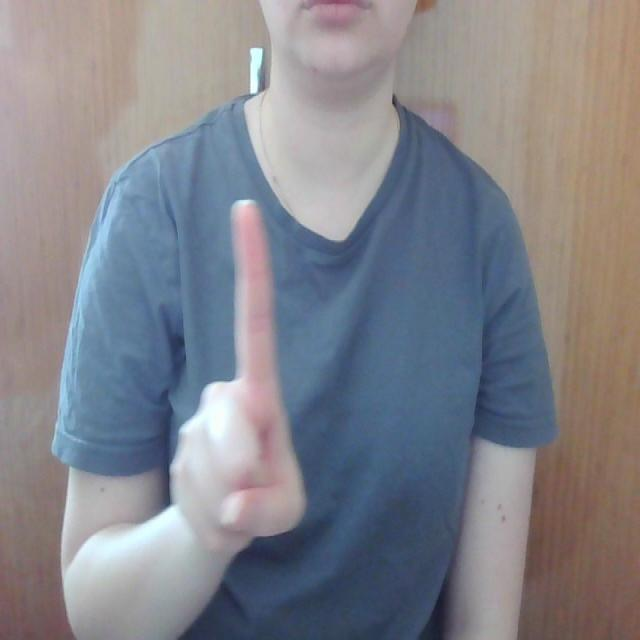Hayir: (166, 174, 322, 576)
